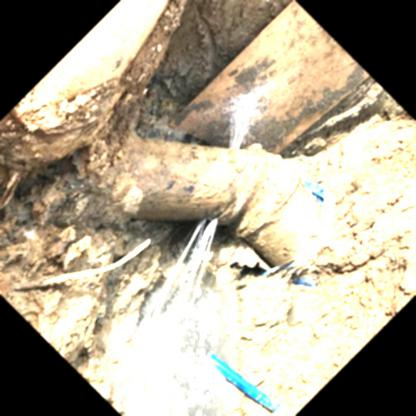burst: (190, 205, 243, 251), (223, 132, 266, 174)
